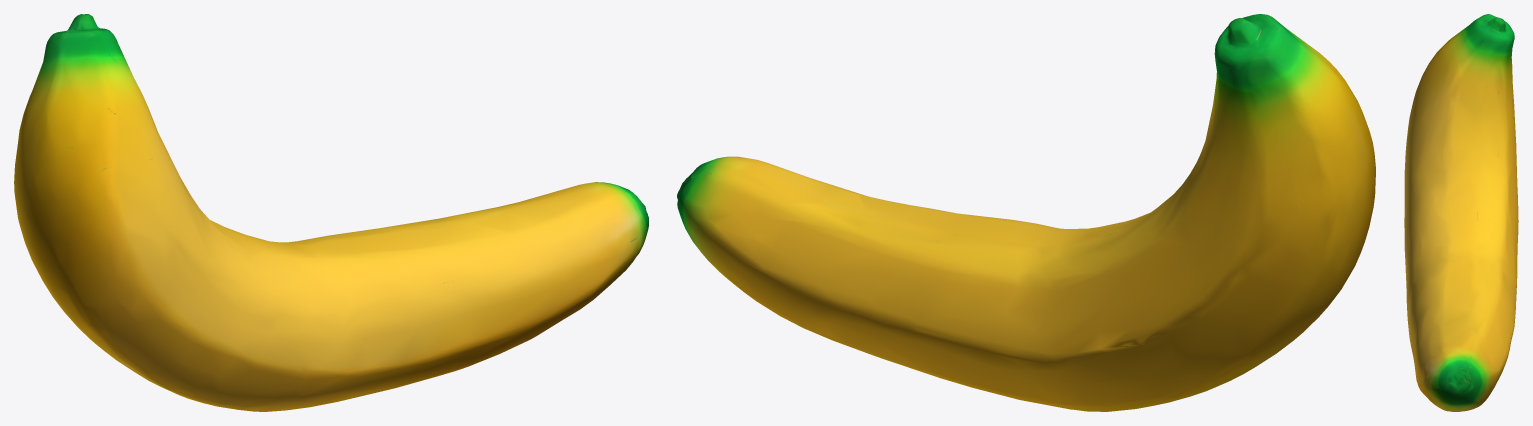
3 views of the same model, side by side, from view 1: azimuth 30°, elevation 25°; view 2: azimuth 150°, elevation 25°; view 3: azimuth 270°, elevation 25° (orthographic). The views are drawn at different scales.
Parts seen in each view (by area): view 1: Meshy_AI_Banana_Arc_0730084907_texture; view 2: Meshy_AI_Banana_Arc_0730084907_texture; view 3: Meshy_AI_Banana_Arc_0730084907_texture.
Boxes of the visible parts, left/top/right/bottom form: Meshy_AI_Banana_Arc_0730084907_texture: left=14, top=14, right=648, bottom=411; Meshy_AI_Banana_Arc_0730084907_texture: left=677, top=14, right=1375, bottom=411; Meshy_AI_Banana_Arc_0730084907_texture: left=1404, top=14, right=1518, bottom=411.
Size of the model in its own units: 1.9 by 1.21 by 0.4643.
Materials: 1 (1 with a texture image).
